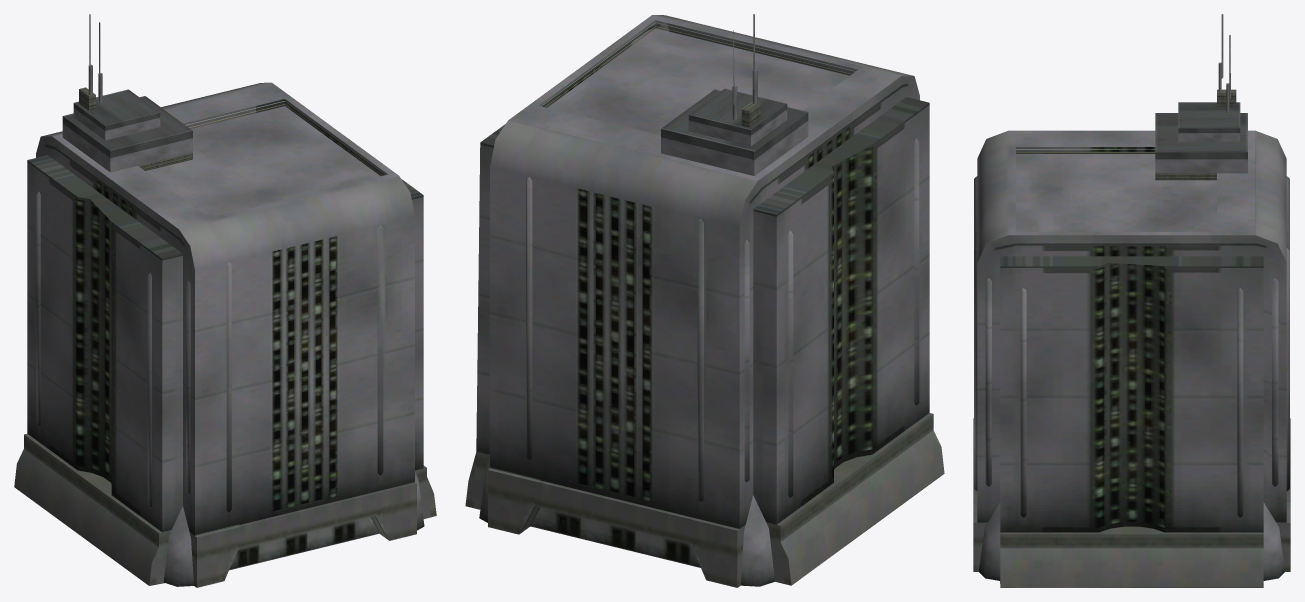
Rendered from thm_corl_imprv_building_s03_l2.fbx.
The picture shows the model from 3 angles, left to right: view 1: azimuth 30°, elevation 25°; view 2: azimuth 150°, elevation 25°; view 3: azimuth 270°, elevation 25°; orthographic projection. The views are drawn at different scales.
Visible parts, largest first — view 1: mesh_node; view 2: mesh_node; view 3: mesh_node.
Part boxes in pixels (x1,y1,x2,y2): mesh_node: (14,14,436,587); mesh_node: (465,14,944,587); mesh_node: (973,14,1290,587).
Size of the model in its own units: 41.8 by 66 by 41.
